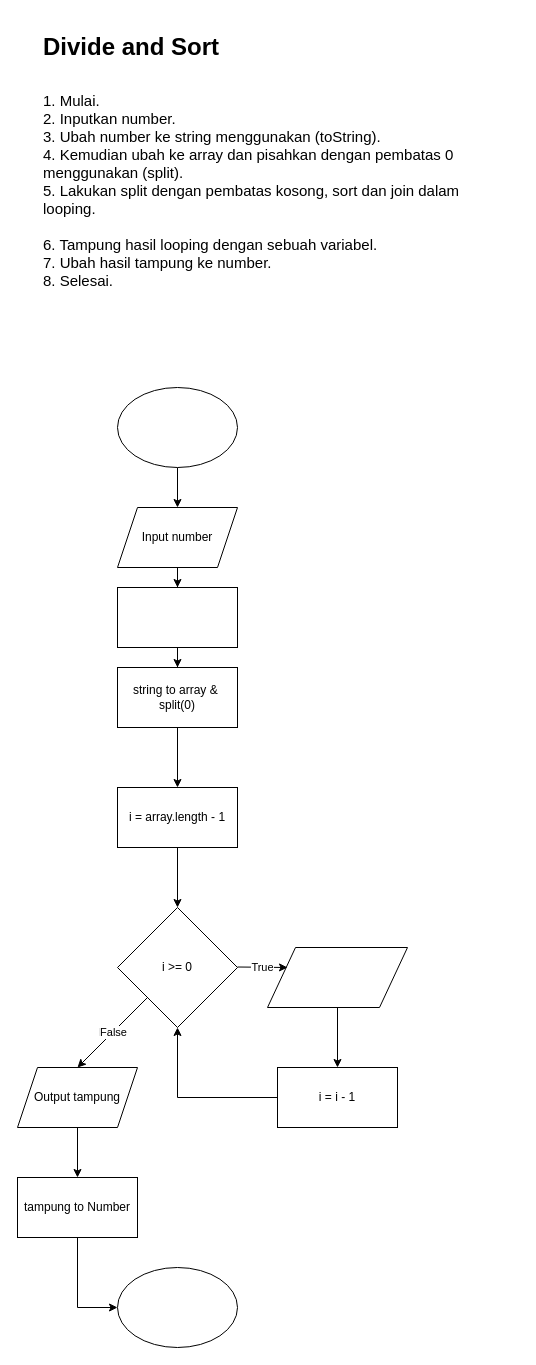
The diagram is 536 pixels wide and 1365 high, and some of its shapes have lost their labels. Here are the shapes that lost their labels. From the top down, the centre of each, then its label:
At pixel 177 427: "Mulai.".
At pixel 177 617: "Number to string".
At pixel 337 977: "Output array [ i ]".
At pixel 177 1307: "Selesai".
